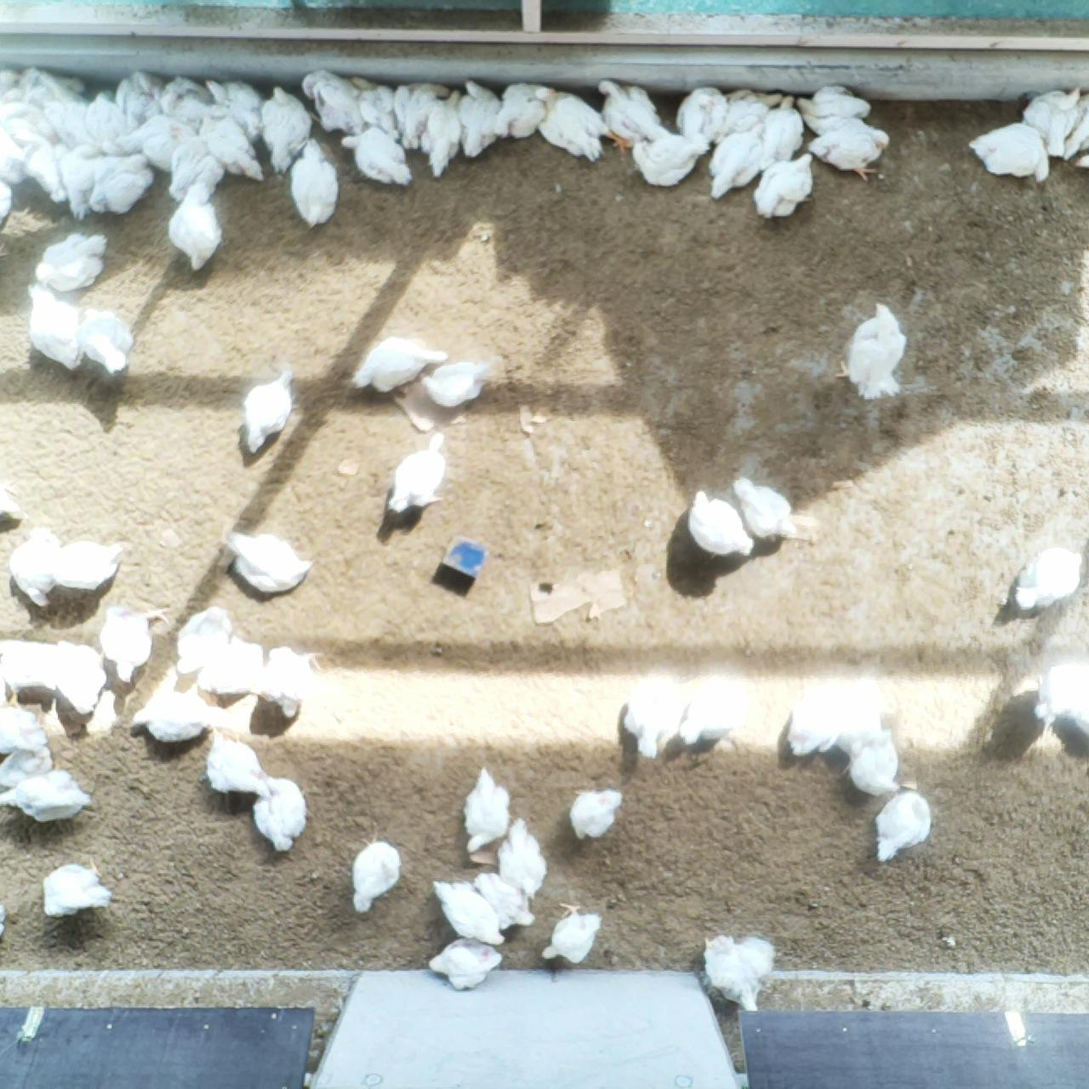chicken: (830, 301, 908, 401), (786, 676, 878, 755), (537, 88, 629, 164), (221, 526, 315, 597), (128, 687, 235, 747), (821, 687, 891, 777), (98, 602, 172, 685), (251, 645, 327, 724), (597, 79, 676, 154), (705, 932, 775, 1016), (676, 672, 755, 745), (352, 338, 449, 397), (25, 280, 87, 372), (624, 671, 688, 759), (387, 428, 447, 521), (251, 768, 311, 857), (969, 122, 1052, 186), (428, 878, 507, 945), (118, 114, 202, 176), (31, 231, 111, 296), (38, 854, 115, 921), (168, 181, 224, 273), (0, 768, 92, 824), (810, 119, 889, 184), (204, 722, 270, 799), (687, 487, 756, 560), (633, 123, 710, 188), (1012, 546, 1084, 615), (7, 525, 66, 609), (193, 634, 267, 700), (461, 763, 510, 862), (197, 112, 265, 183), (0, 637, 66, 710), (49, 635, 107, 718), (706, 122, 766, 202), (7, 130, 70, 205), (260, 86, 312, 175), (301, 69, 369, 136), (729, 475, 798, 541), (351, 834, 407, 915), (243, 370, 295, 457), (290, 137, 339, 228), (418, 356, 496, 413), (174, 604, 234, 678), (89, 152, 154, 220), (753, 151, 817, 220), (793, 84, 876, 137), (872, 791, 932, 864), (1031, 661, 1089, 736), (341, 126, 413, 186), (76, 301, 135, 374), (1022, 87, 1081, 160), (389, 81, 451, 150), (429, 936, 504, 993), (497, 816, 547, 901), (419, 89, 465, 181), (540, 902, 604, 966), (165, 137, 225, 205), (51, 538, 123, 594), (492, 82, 558, 142), (474, 871, 537, 933), (848, 723, 900, 796), (87, 89, 138, 160), (459, 80, 504, 160), (759, 94, 808, 165), (207, 75, 261, 139), (350, 74, 400, 143), (115, 68, 168, 131), (717, 88, 786, 136), (162, 73, 215, 134), (673, 86, 726, 146), (57, 143, 97, 221), (571, 783, 623, 843), (35, 67, 91, 121), (0, 99, 60, 149), (44, 100, 101, 152), (0, 742, 59, 790), (0, 698, 48, 753), (1059, 91, 1089, 167), (0, 119, 27, 192), (0, 477, 26, 524), (0, 179, 16, 232), (0, 61, 26, 93)
